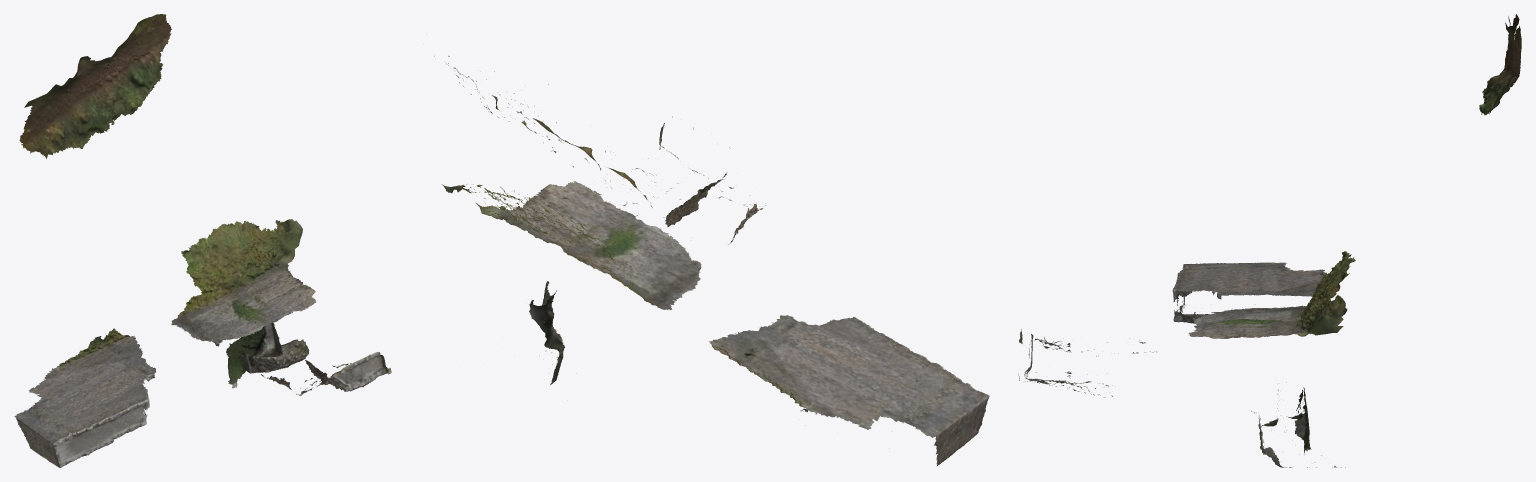
3 views of the same model, side by side, from view 1: azimuth 30°, elevation 25°; view 2: azimuth 150°, elevation 25°; view 3: azimuth 270°, elevation 25° (orthographic). The views are drawn at different scales.
Bounding box in the file's own units: 30.51 × 29.77 × 32.08.
Materials: 1 (1 with a texture image).
